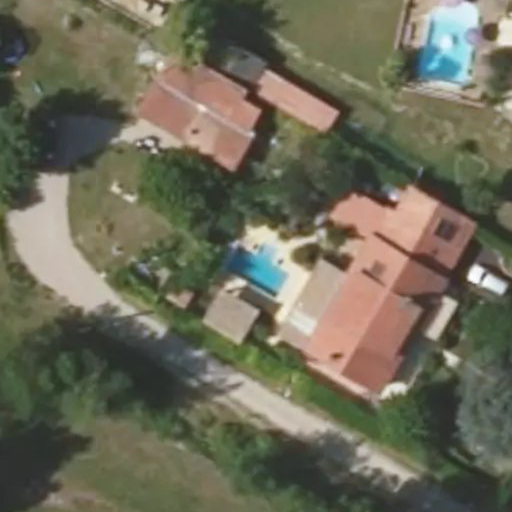pool: (227, 238, 284, 244)
